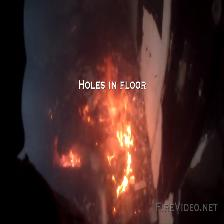fire: (58, 53, 175, 224)
